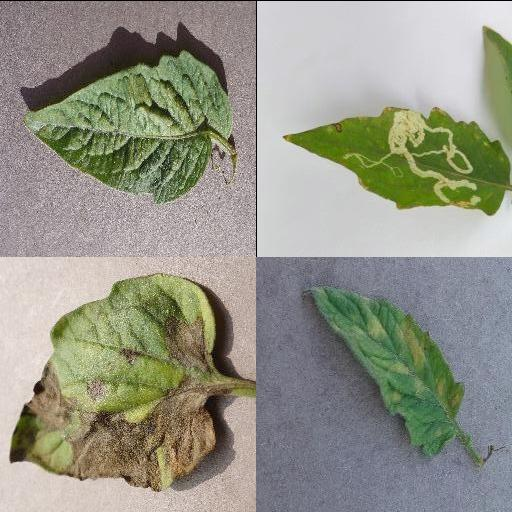Late Blight: (9, 272, 217, 492)
Leaf Miner: (279, 103, 512, 216)
Leaf Mold: (303, 284, 469, 456)
Spider Mites: (22, 51, 234, 205)
